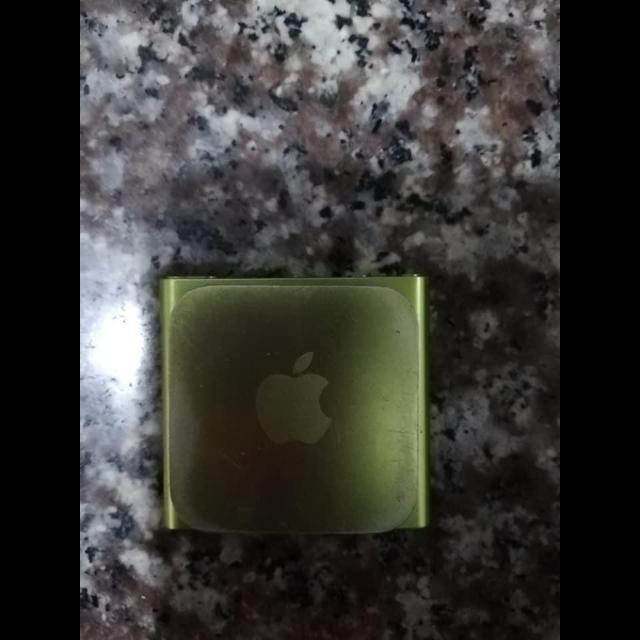Music-Player: (152, 263, 438, 553)
